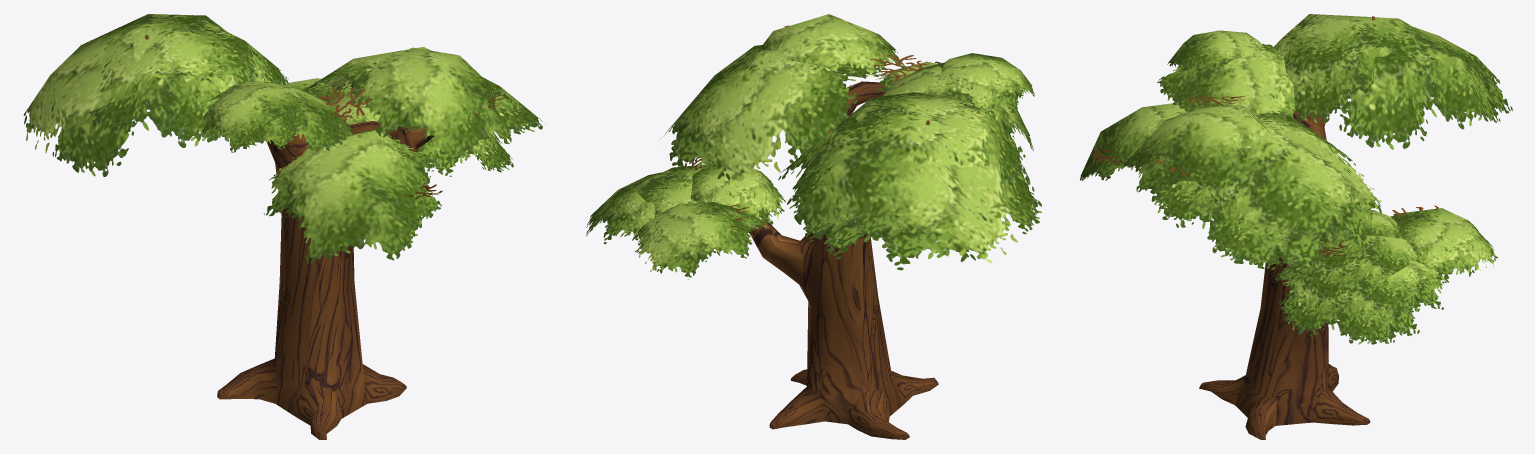
The model's file is tree_2.dae.
3 views of the same model, side by side, from view 1: azimuth 30°, elevation 25°; view 2: azimuth 150°, elevation 25°; view 3: azimuth 270°, elevation 25° (orthographic). The views are drawn at different scales.
Visible parts, largest first — view 1: oak_with_leaves; view 2: oak_with_leaves; view 3: oak_with_leaves.
Part boxes in pixels (x1,y1,x2,y2): oak_with_leaves: (23,14,545,439); oak_with_leaves: (586,14,1041,439); oak_with_leaves: (1080,14,1512,439).
Size of the model in its own units: 10.5 by 9.32 by 7.81.
1 material, 1 textured.
